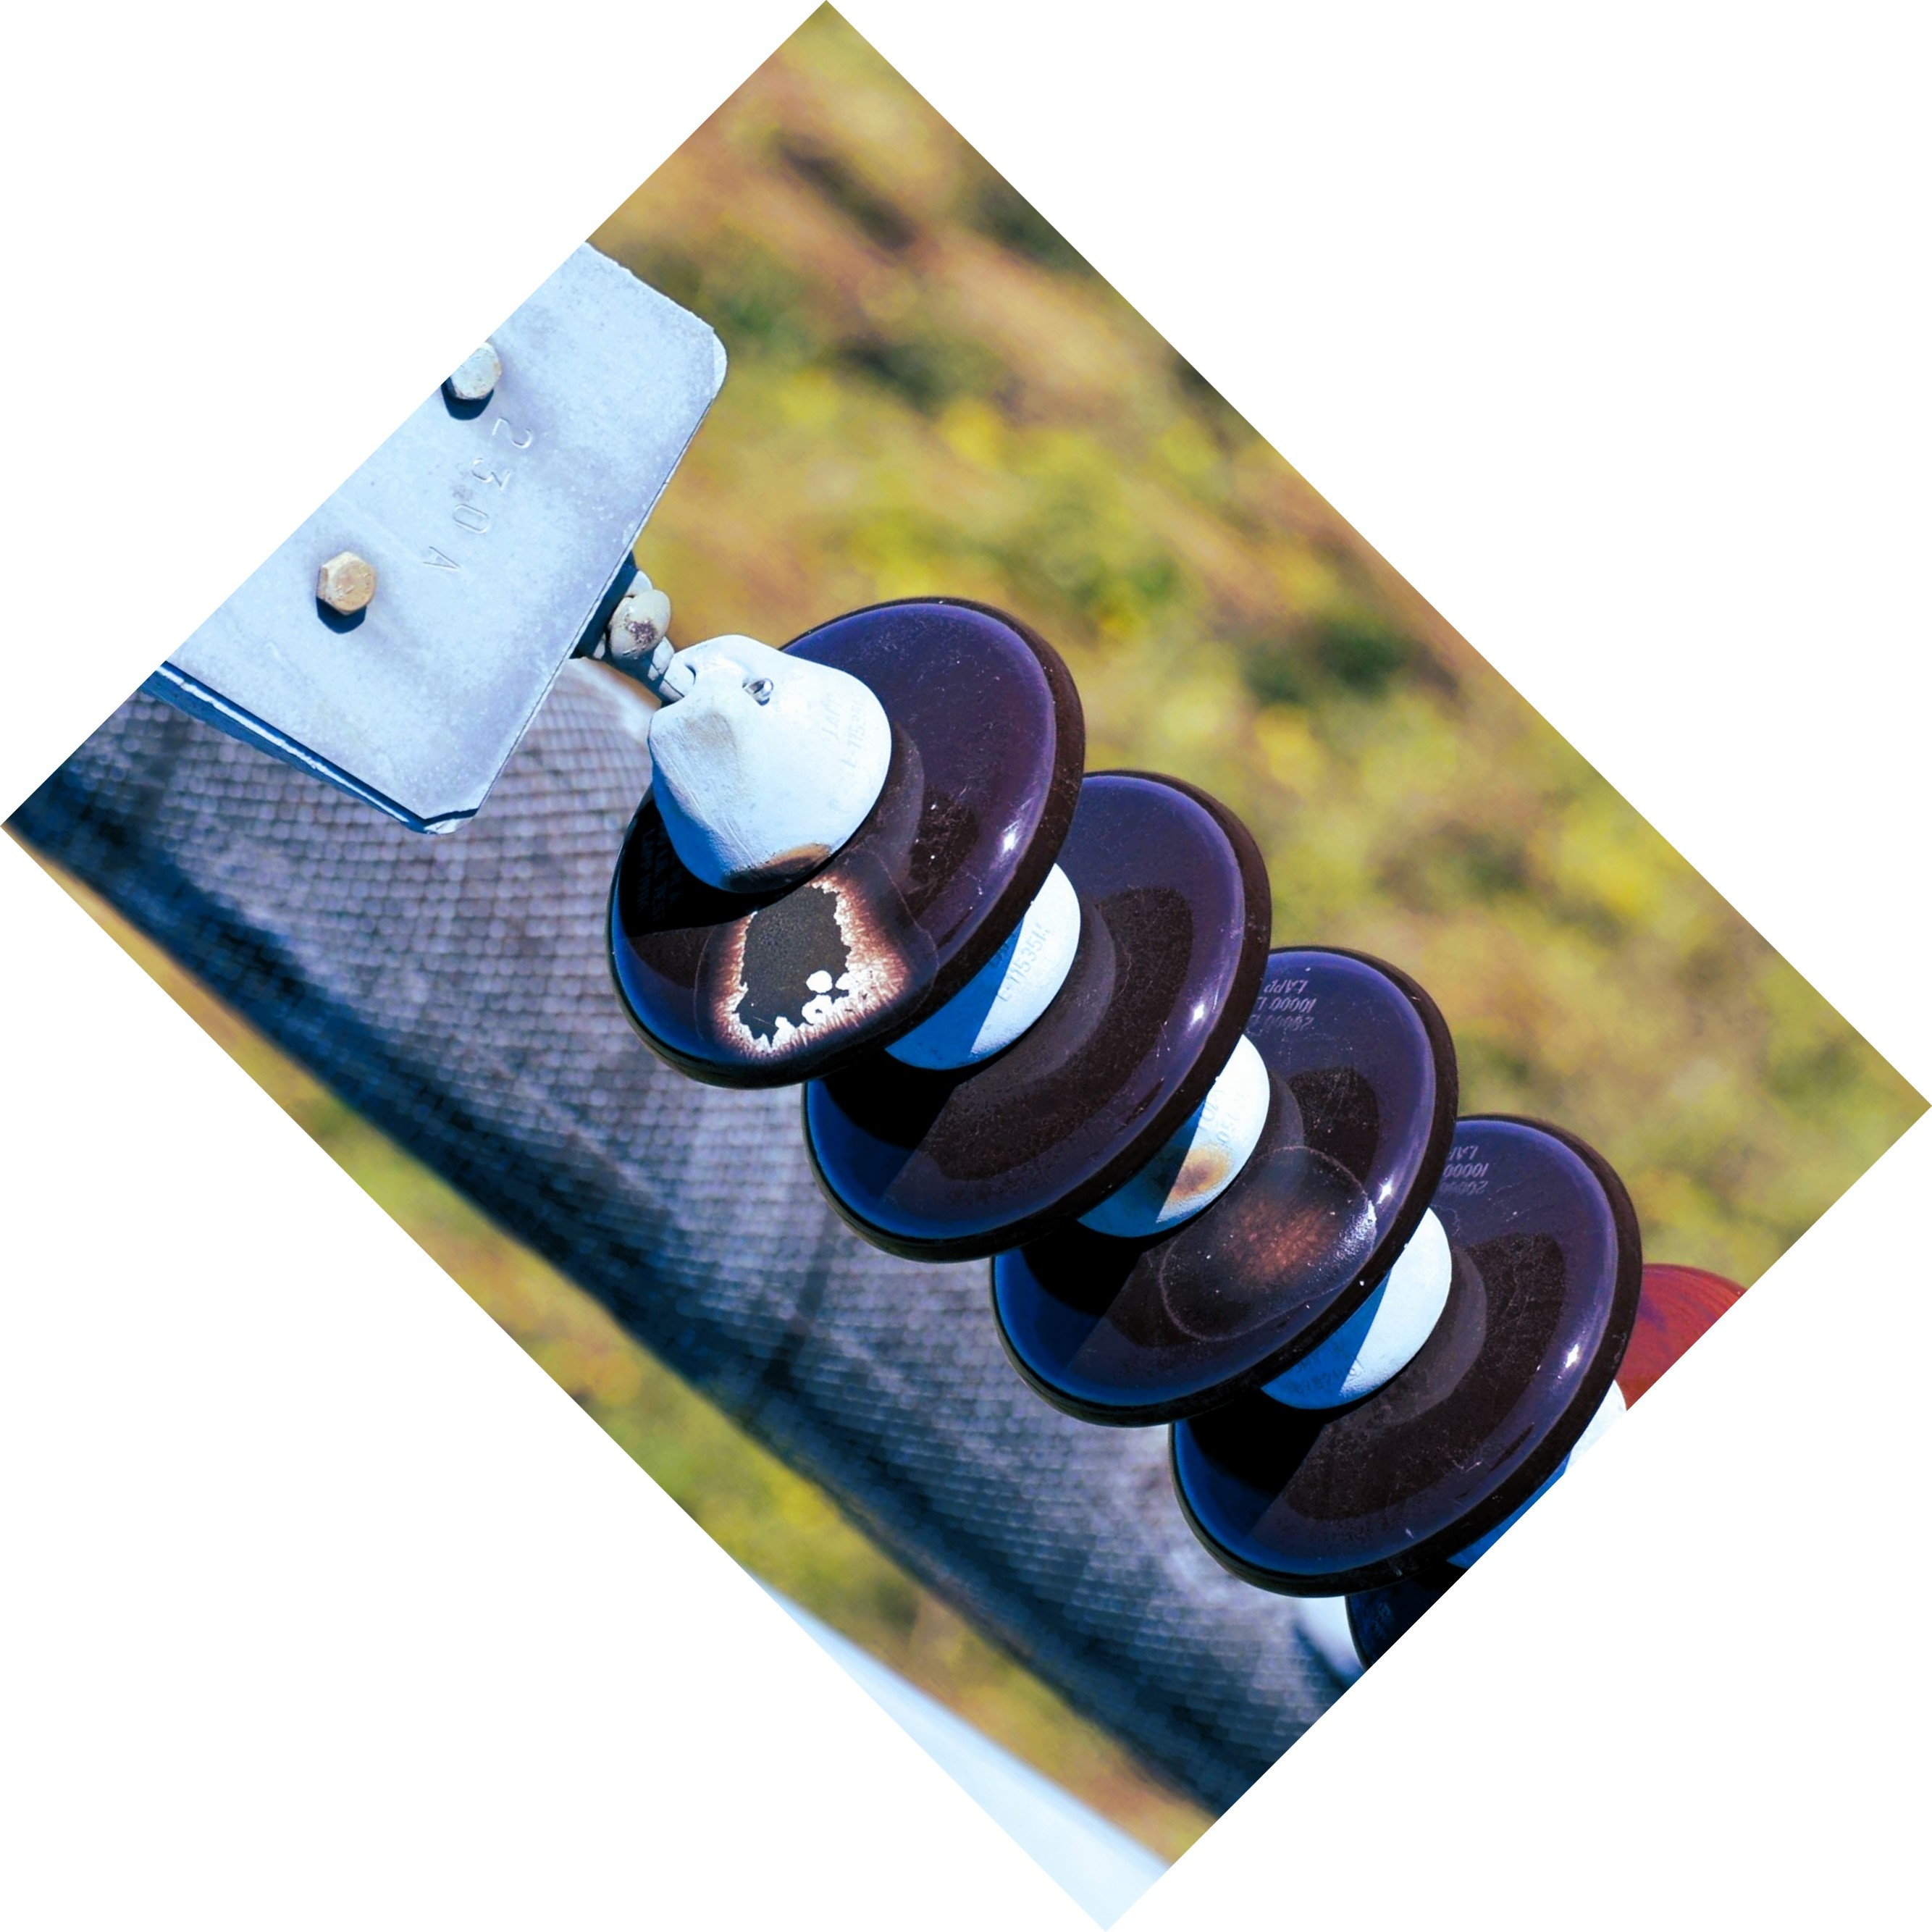Insulator flashover: (598, 591, 1093, 1095)
